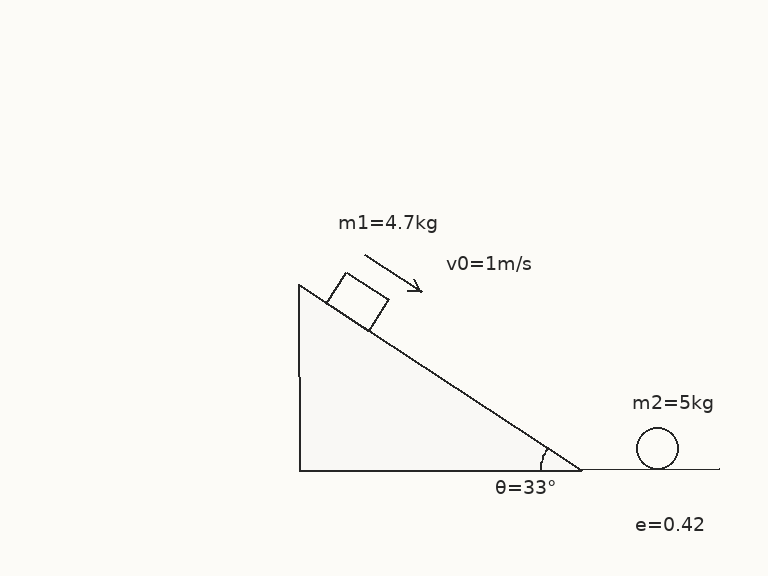ball: (634, 425, 680, 471)
block: (324, 270, 391, 333)
ramp: (296, 283, 583, 471)
